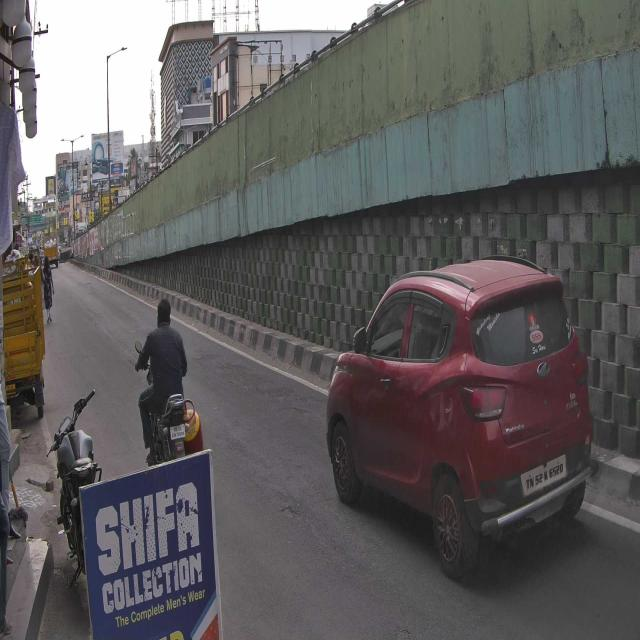single_rider: (133, 297, 197, 464)
